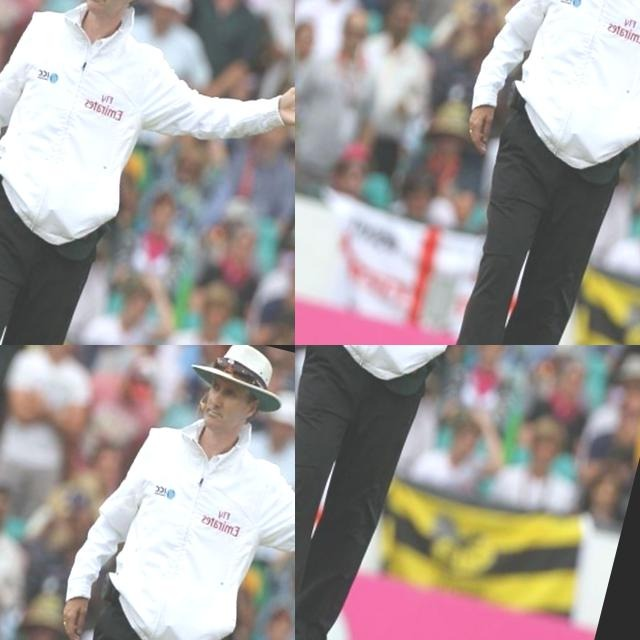No_Ball: (295, 0, 622, 332), (0, 345, 295, 640), (60, 0, 295, 345), (410, 345, 640, 581)
